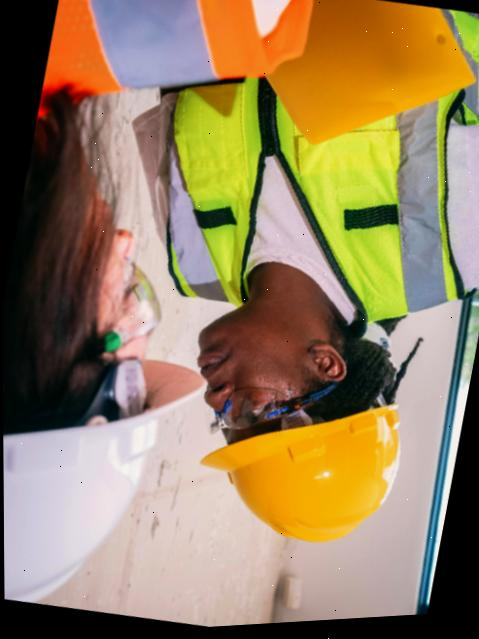helmet: (2, 322, 204, 627), (206, 383, 435, 561)
vest: (134, 55, 479, 344), (33, 0, 313, 172)
